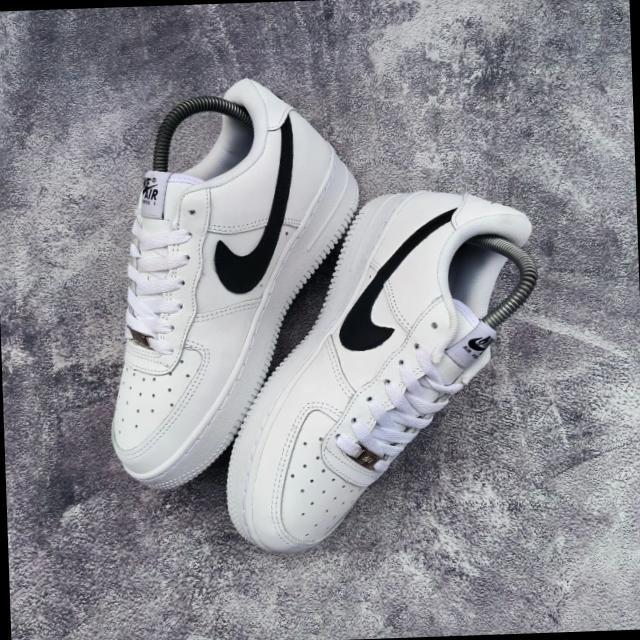nike fake air force: (216, 183, 554, 558), (98, 74, 376, 492)
